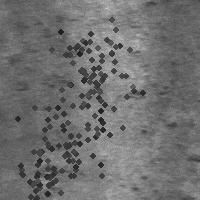rolled-in_scale: (33, 9, 153, 129), (6, 81, 126, 200), (122, 49, 196, 200), (9, 12, 84, 93), (0, 136, 81, 200), (17, 160, 82, 196)
